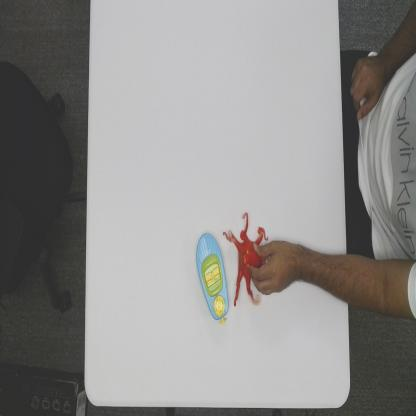Arm: (298, 239, 416, 325)
Boat: (194, 230, 230, 325)
Hand: (248, 240, 298, 297)
Octopus: (223, 210, 270, 308)
